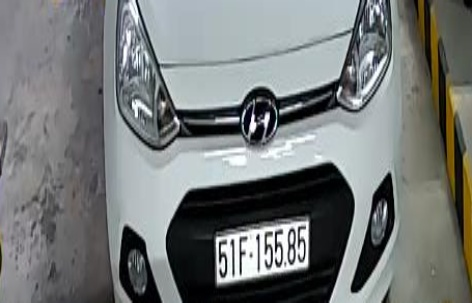plate: (208, 210, 322, 287)
